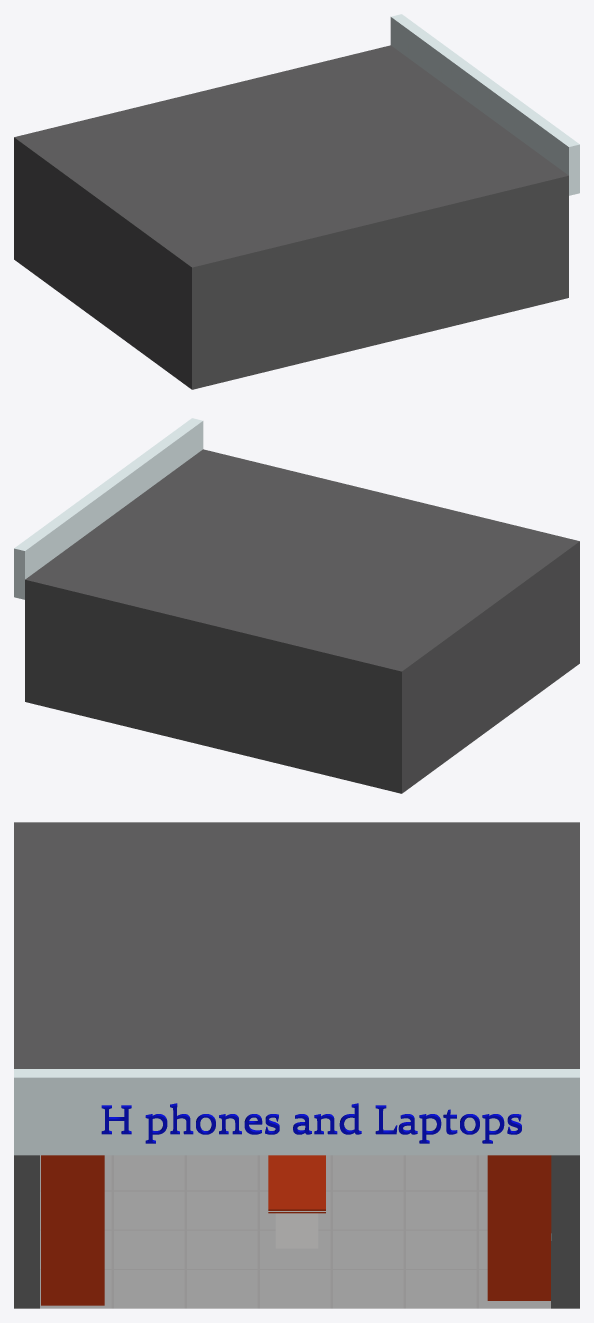
File: MobileStore.fbx
3 views of the same model, one above another, from view 1: azimuth 30°, elevation 25°; view 2: azimuth 150°, elevation 25°; view 3: azimuth 270°, elevation 25° (orthographic). The views are drawn at different scales.
Parts seen in each view (by area): view 1: MobileShoop; view 2: MobileShoop; view 3: MobileShoop, almari, almari.003, TableMid, Text.
Boxes of the visible parts, box(x1,y1,x2,y2) form: MobileShoop: box(14, 14, 579, 389); MobileShoop: box(14, 418, 579, 793); MobileShoop: box(14, 822, 579, 1308); almari: box(41, 1155, 104, 1305); almari.003: box(487, 1155, 551, 1300); TableMid: box(268, 1155, 325, 1248); Text: box(101, 1103, 521, 1143).
Size of the model in its own units: 1301 by 482 by 1027.
